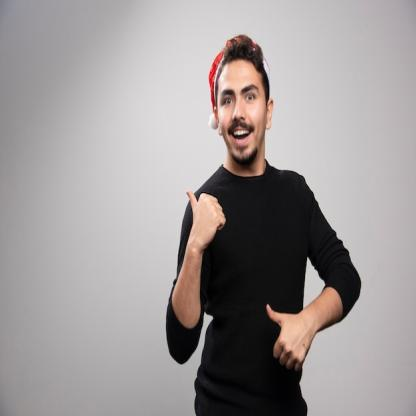thumb_up: (262, 299, 314, 377), (183, 187, 228, 249)
